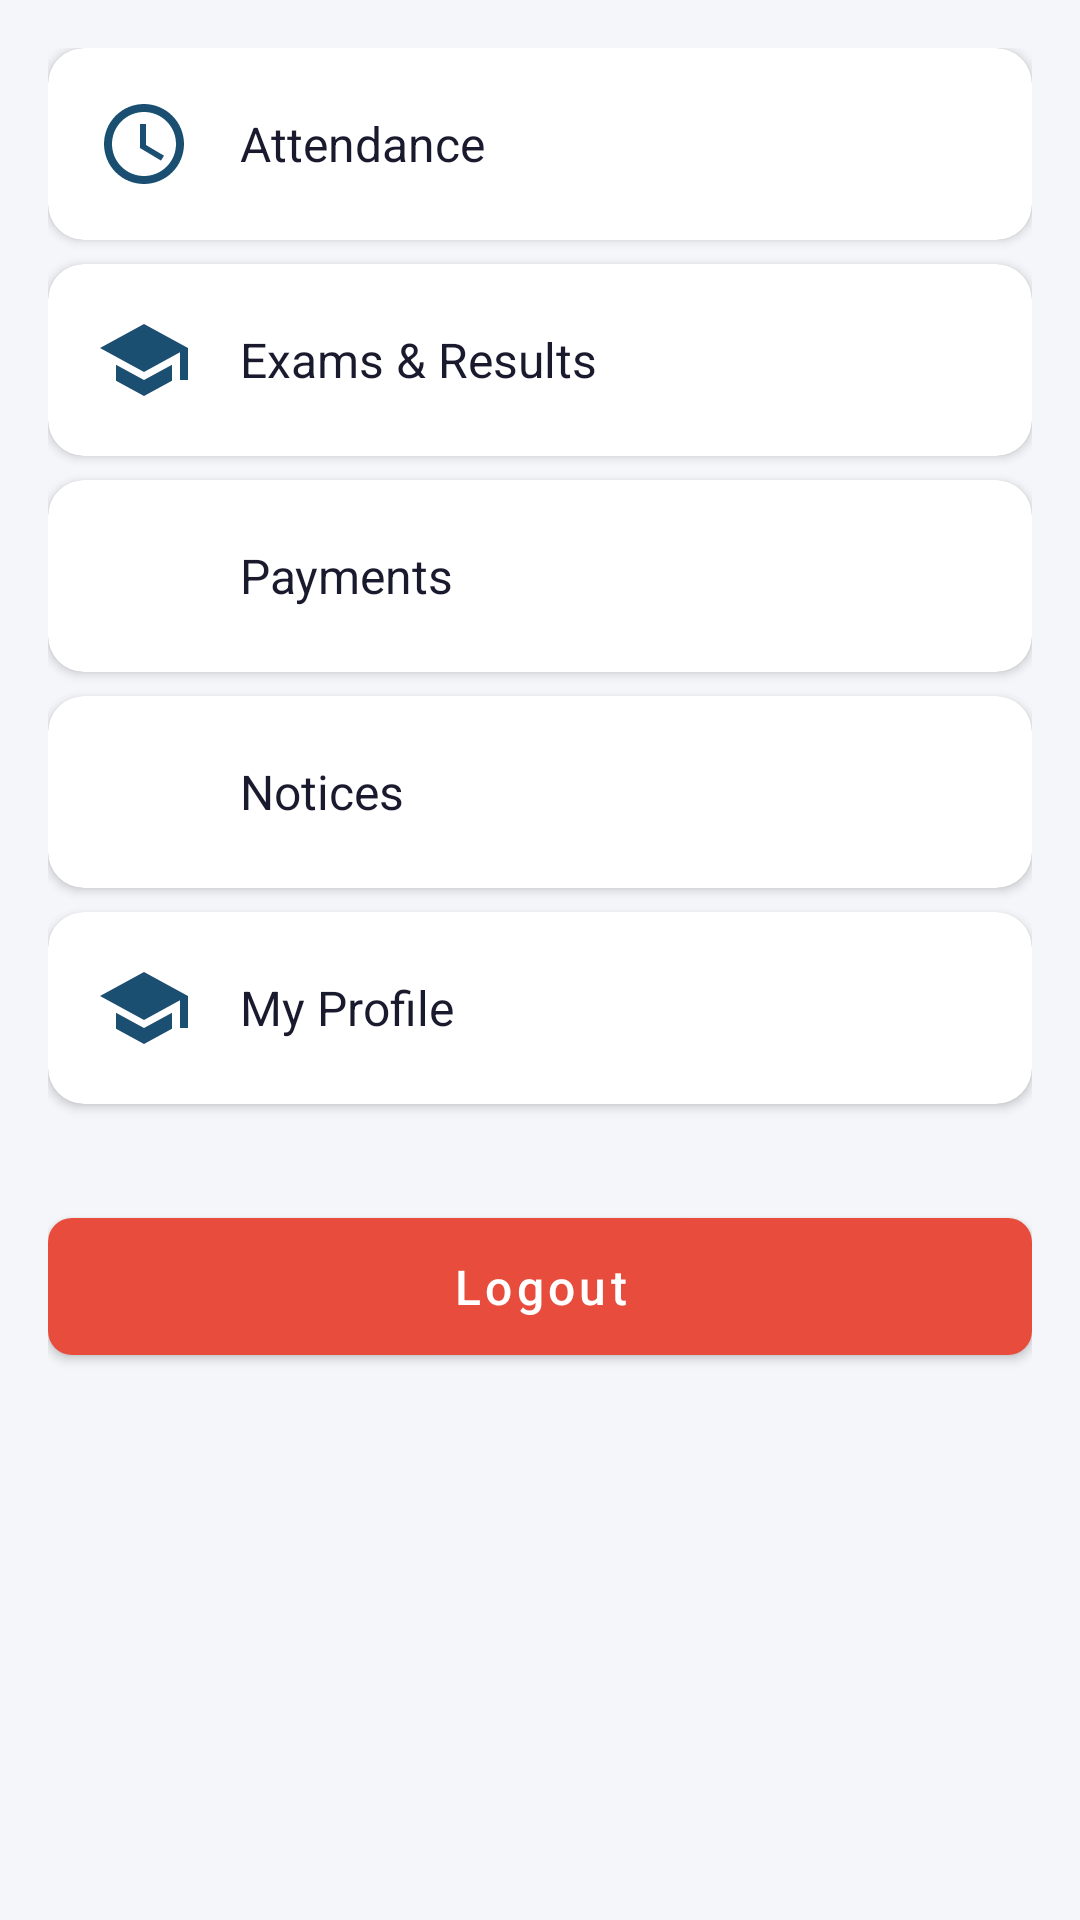

Named icons in this screenshot (1080 × 1920) and their centers, [x,y]:
courses: [144,360], [144,1008]
timetable: [144,144]
